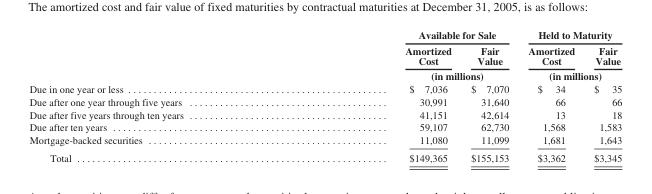table: (28, 28, 621, 163)
table column: (28, 28, 293, 163), (293, 28, 460, 163), (518, 28, 583, 163), (460, 28, 518, 163), (583, 28, 621, 163)
table column header: (28, 28, 621, 82)
table row: (28, 42, 621, 68), (28, 133, 621, 148), (28, 148, 621, 163), (28, 28, 621, 42), (28, 68, 621, 82), (28, 82, 621, 95), (28, 107, 621, 120), (28, 120, 621, 133), (28, 95, 621, 107)
table spanning cell: (293, 28, 518, 42), (293, 68, 518, 82), (518, 28, 621, 42), (518, 68, 621, 82)
